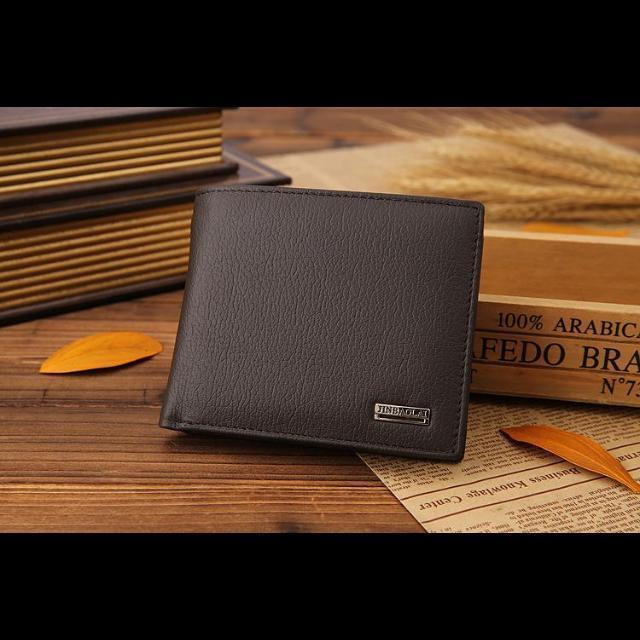wallet: (165, 182, 485, 468)
